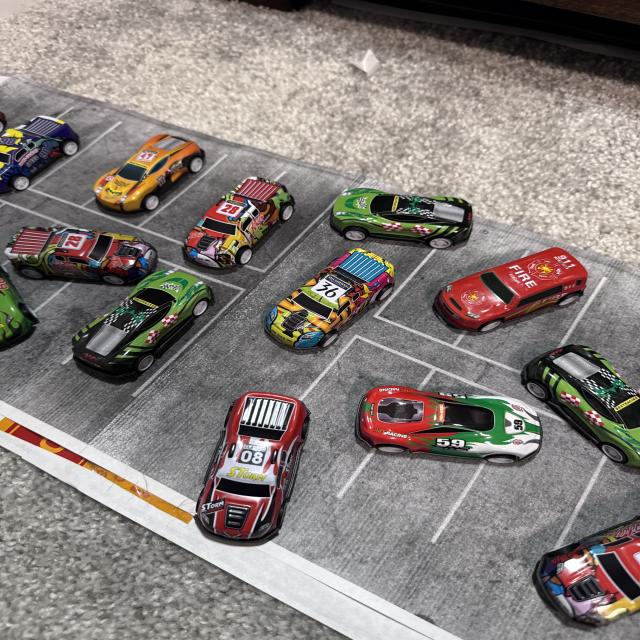Car: (345, 365, 556, 475), (154, 384, 317, 518), (70, 270, 216, 372), (517, 347, 636, 469), (437, 248, 587, 332), (532, 513, 640, 628), (270, 248, 384, 350), (182, 180, 298, 265), (3, 224, 158, 284), (91, 134, 205, 212), (332, 189, 454, 248), (0, 115, 81, 195)
